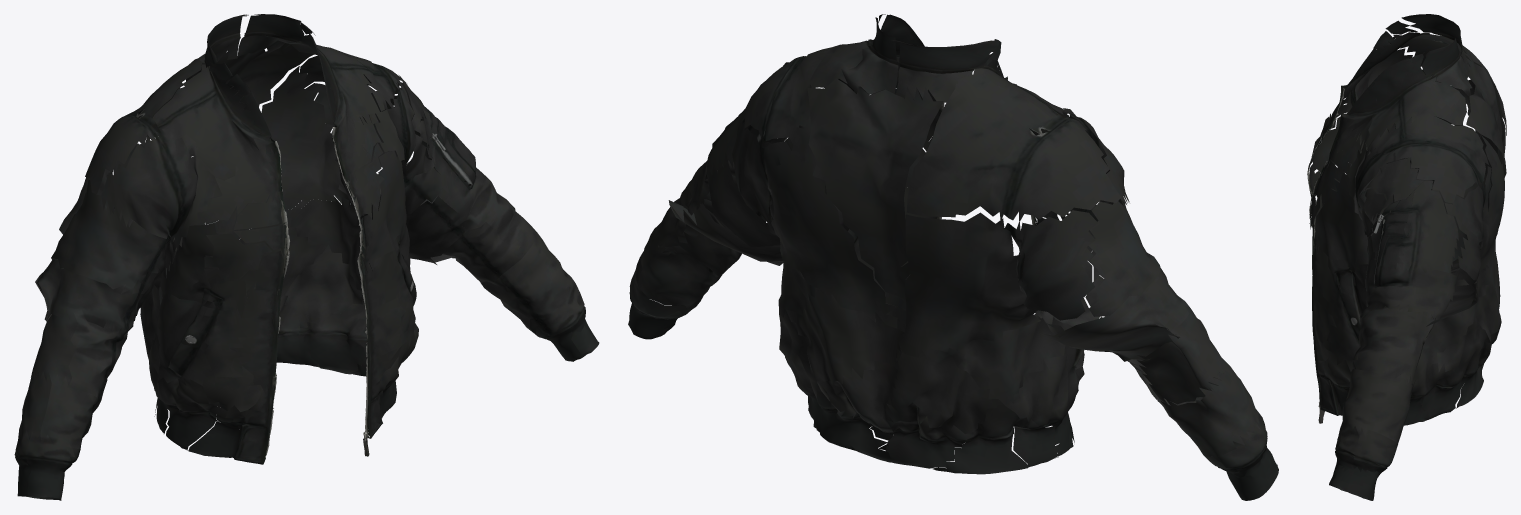
Rendered from dante.glb.
3 renders of one model, left to right at view 1: azimuth 30°, elevation 25°; view 2: azimuth 150°, elevation 25°; view 3: azimuth 270°, elevation 25°, orthographic. The views are drawn at different scales.
Parts seen in each view (by area): view 1: geometry_0; view 2: geometry_0; view 3: geometry_0.
Part boxes in pixels (x1=…): geometry_0: x1=14, y1=14, x2=599, y2=500; geometry_0: x1=628, y1=14, x2=1278, y2=500; geometry_0: x1=1307, y1=14, x2=1506, y2=500.
Bounding box in the file's own units: 0.9862 × 0.655 × 0.3234.
Materials: 1 (1 with a texture image).
